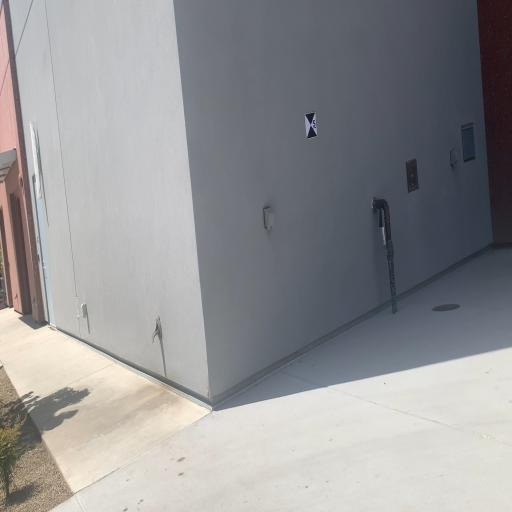target5: (304, 111, 318, 140)
